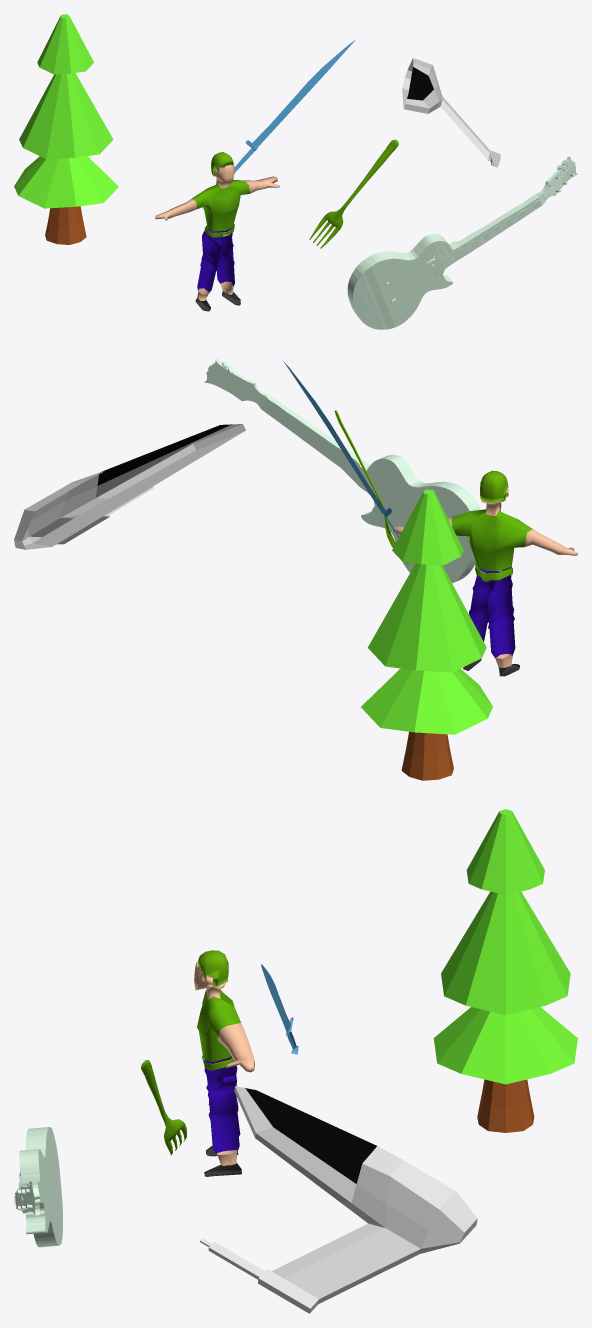
The model's file is DemoScene1.glb.
3 renders of one model, top to bottom at view 1: azimuth 30°, elevation 25°; view 2: azimuth 150°, elevation 25°; view 3: azimuth 270°, elevation 25°, orthographic. The views are drawn at different scales.
Visible parts, largest first — view 1: Tree, Guitar, Man, Spaceship, Sword, Fork; view 2: Tree, Spaceship, Guitar, Man, Sword; view 3: Tree, Spaceship, Man, Guitar, Fork, Sword.
Boxes of the visible parts, left/top/right/bottom form: Tree: left=14, top=14, right=118, bottom=244; Guitar: left=347, top=156, right=577, bottom=329; Man: left=155, top=152, right=279, bottom=311; Spaceship: left=402, top=58, right=500, bottom=167; Sword: left=234, top=40, right=355, bottom=173; Fork: left=309, top=139, right=398, bottom=248; Tree: left=361, top=489, right=492, bottom=780; Spaceship: left=14, top=424, right=245, bottom=549; Guitar: left=204, top=358, right=480, bottom=583; Man: left=392, top=470, right=577, bottom=676; Sword: left=283, top=361, right=399, bottom=537; Tree: left=433, top=809, right=577, bottom=1132; Spaceship: left=200, top=1086, right=477, bottom=1313; Man: left=194, top=950, right=254, bottom=1176; Guitar: left=14, top=1127, right=62, bottom=1247; Fork: left=141, top=1060, right=186, bottom=1155; Sword: left=261, top=964, right=298, bottom=1054.
Size of the model in its own units: 10.46 by 5.59 by 8.84.
